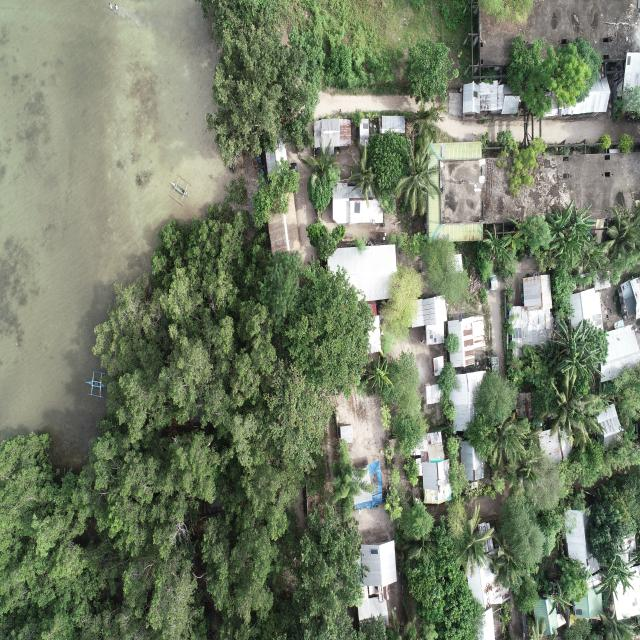Tree: (88, 203, 332, 640), (0, 430, 97, 640), (205, 18, 318, 169), (286, 253, 374, 396), (296, 502, 370, 640), (409, 514, 488, 640), (540, 366, 610, 454), (385, 347, 431, 461), (523, 43, 589, 122), (397, 136, 444, 218), (250, 156, 300, 231), (421, 235, 471, 310), (498, 493, 545, 572), (552, 317, 606, 385), (333, 438, 374, 526), (403, 37, 456, 105), (258, 249, 302, 330), (382, 260, 422, 344), (455, 502, 496, 579), (472, 367, 518, 434), (498, 134, 548, 195), (546, 198, 587, 269), (490, 539, 538, 597), (504, 32, 546, 98), (342, 141, 382, 210), (600, 205, 640, 274), (507, 441, 548, 508), (369, 129, 408, 199), (409, 83, 449, 148), (587, 500, 624, 570), (595, 544, 638, 604), (601, 478, 640, 538), (489, 409, 526, 470), (298, 138, 341, 188), (534, 456, 568, 516), (554, 551, 590, 606), (305, 219, 346, 262), (548, 264, 578, 322), (613, 361, 640, 423), (482, 221, 512, 274), (596, 603, 638, 640), (530, 373, 556, 430), (401, 497, 434, 541), (542, 575, 574, 617), (507, 207, 535, 254), (367, 352, 393, 397), (529, 211, 552, 258), (307, 172, 333, 212), (515, 577, 541, 615), (576, 437, 604, 470), (438, 358, 460, 399), (564, 617, 596, 640), (528, 615, 549, 640), (444, 332, 461, 355), (617, 133, 633, 155), (598, 133, 612, 152)
